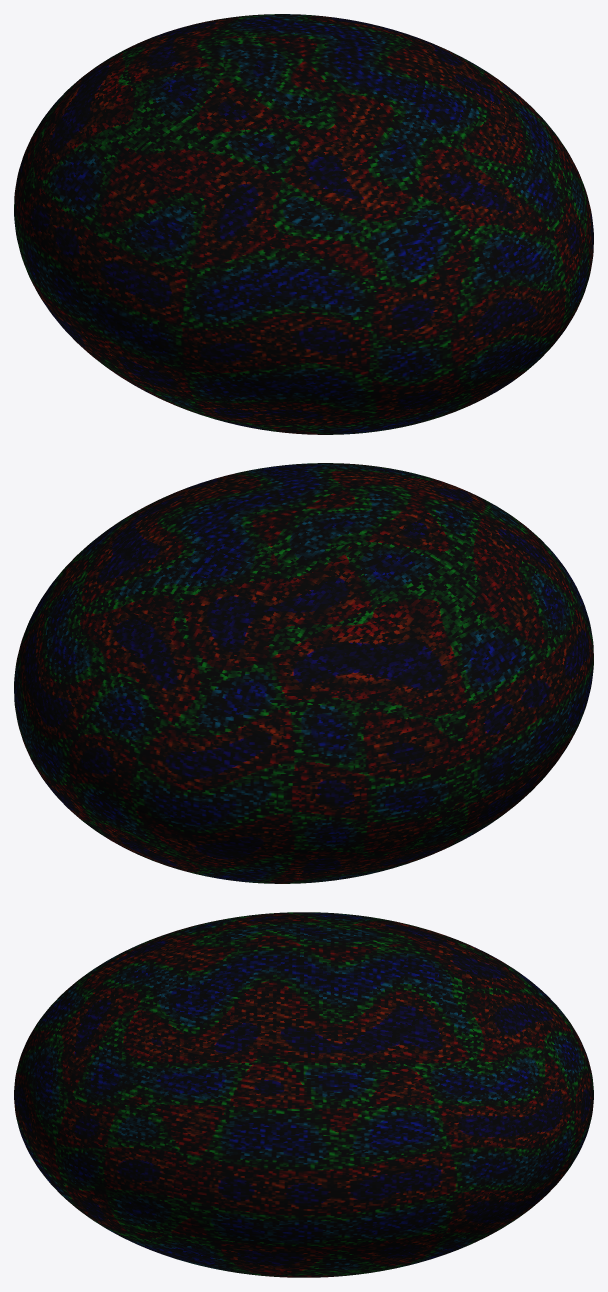
Rendered from black-opal.glb.
The picture shows the model from 3 angles, top to bottom: view 1: azimuth 30°, elevation 25°; view 2: azimuth 150°, elevation 25°; view 3: azimuth 270°, elevation 25°; orthographic projection. The views are drawn at different scales.
Parts seen in each view (by area): view 1: black-opal.001; view 2: black-opal.001; view 3: black-opal.001.
Part boxes in pixels (bbox=[...]): black-opal.001: bbox=[14, 14, 593, 434]; black-opal.001: bbox=[14, 463, 593, 883]; black-opal.001: bbox=[14, 912, 593, 1277].
Bounding box in the file's own units: 2.17 × 1.41 × 2.5.
Materials: 1 (1 with a texture image).
